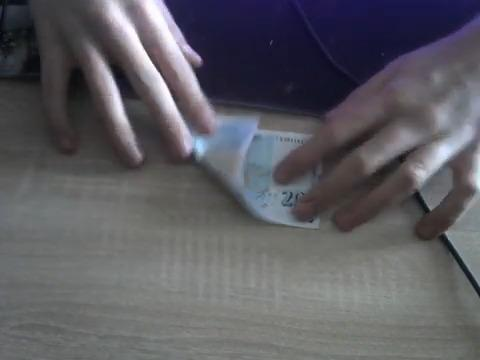20leva: (195, 113, 320, 229)
